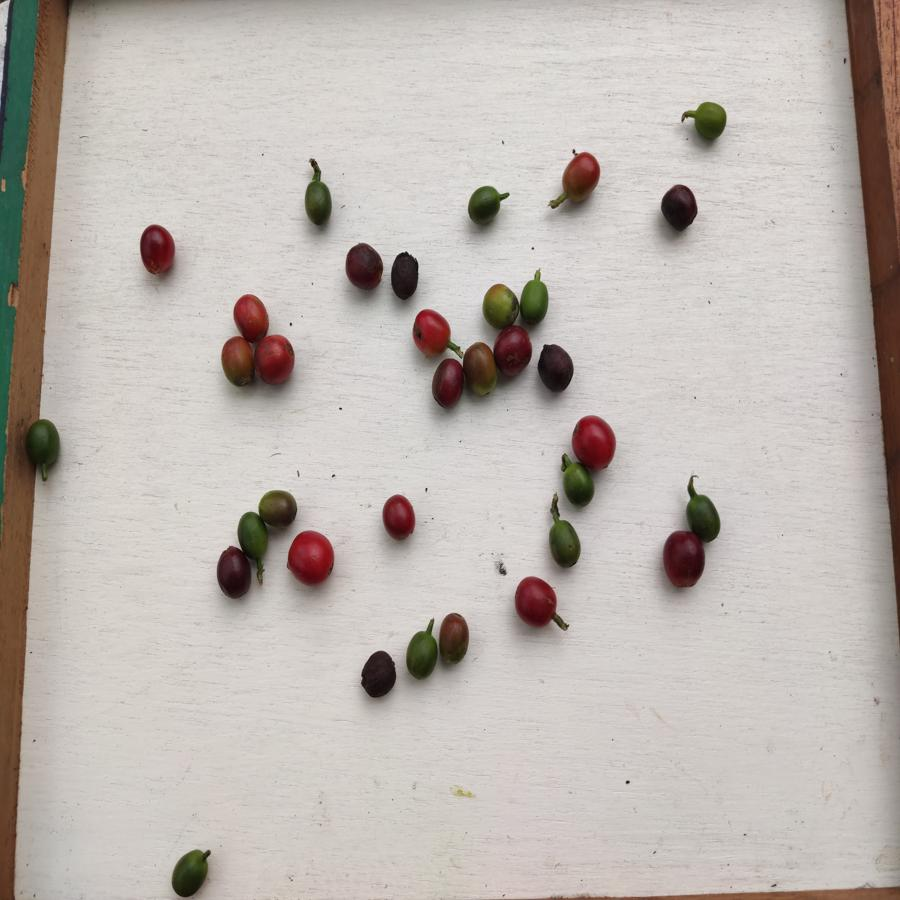Inmaduro: (20, 414, 64, 471), (545, 517, 589, 570), (171, 845, 210, 899), (299, 179, 336, 229), (686, 492, 724, 540), (402, 629, 439, 678), (560, 463, 597, 510), (466, 185, 504, 229), (238, 512, 269, 562), (694, 100, 730, 142), (520, 280, 550, 325)
Maduro: (284, 529, 336, 581), (572, 413, 617, 469), (513, 575, 558, 628), (136, 223, 178, 279), (255, 335, 302, 385), (410, 309, 455, 356), (232, 294, 272, 337), (382, 493, 417, 541)
Pinton: (558, 151, 602, 203), (437, 610, 471, 669), (463, 341, 497, 398), (479, 281, 520, 327), (257, 486, 299, 530), (222, 335, 256, 388)
Sobremaduro: (662, 532, 704, 592), (343, 243, 385, 294), (359, 647, 398, 698), (496, 328, 534, 379), (659, 183, 698, 231), (216, 546, 250, 601), (538, 342, 574, 393), (430, 357, 464, 411), (389, 250, 420, 300)
